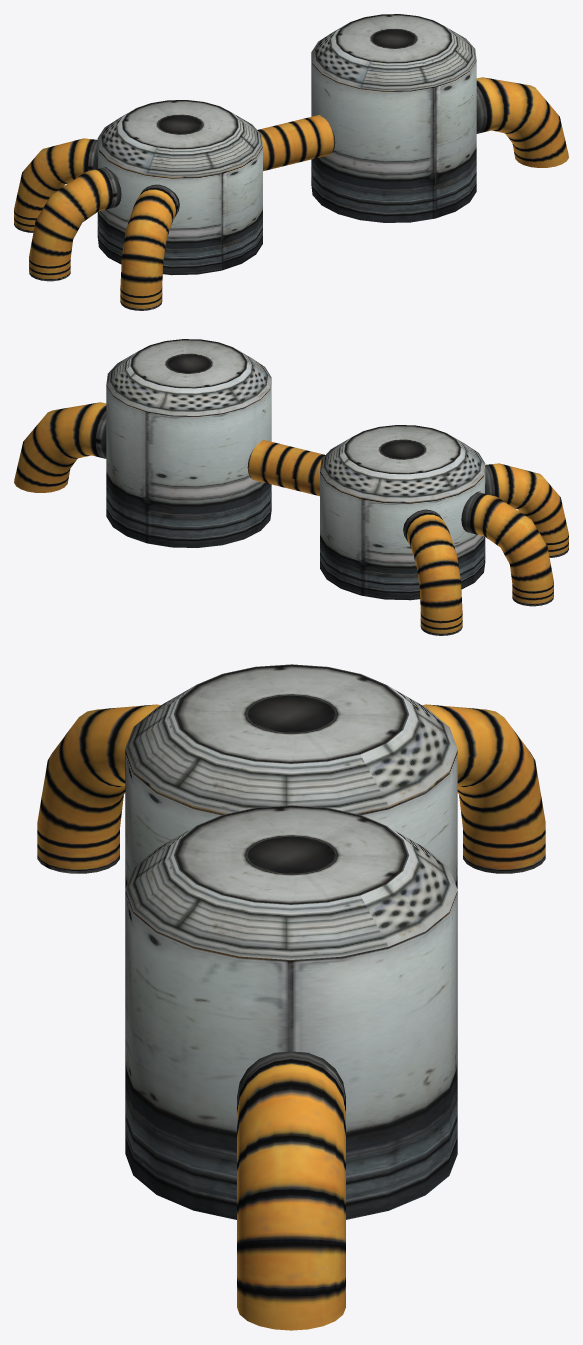
Rendered from bombadagua.fbx.
3 views of the same model, one above another, from view 1: azimuth 30°, elevation 25°; view 2: azimuth 150°, elevation 25°; view 3: azimuth 270°, elevation 25° (orthographic). The views are drawn at different scales.
Visible parts, largest first — view 1: Cylinder.001; view 2: Cylinder.001; view 3: Cylinder.001.
Boxes of the visible parts, left/top/right/bottom form: Cylinder.001: left=14, top=14, right=568, bottom=310; Cylinder.001: left=14, top=339, right=568, bottom=635; Cylinder.001: left=37, top=664, right=545, bottom=1330.
Bounding box in the file's own units: 5.93 × 1.64 × 2.45.
